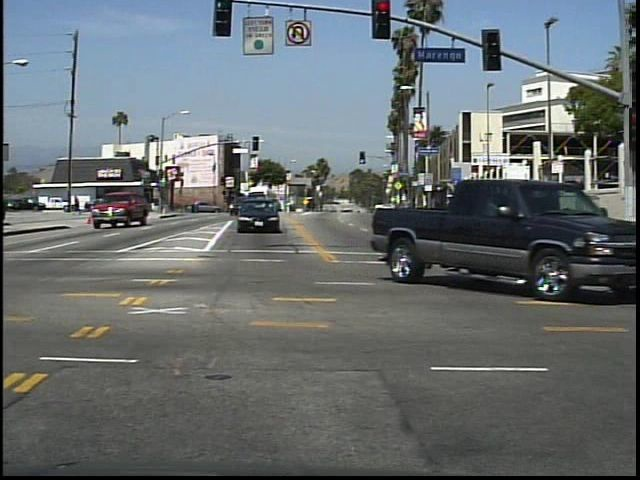person: (71, 195, 84, 219)
